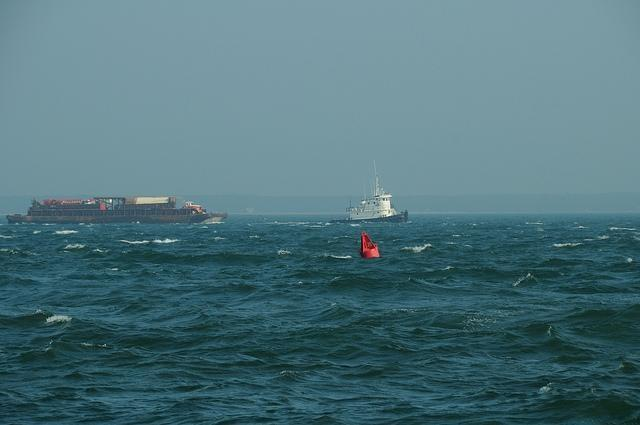truck: (123, 197, 206, 215)
